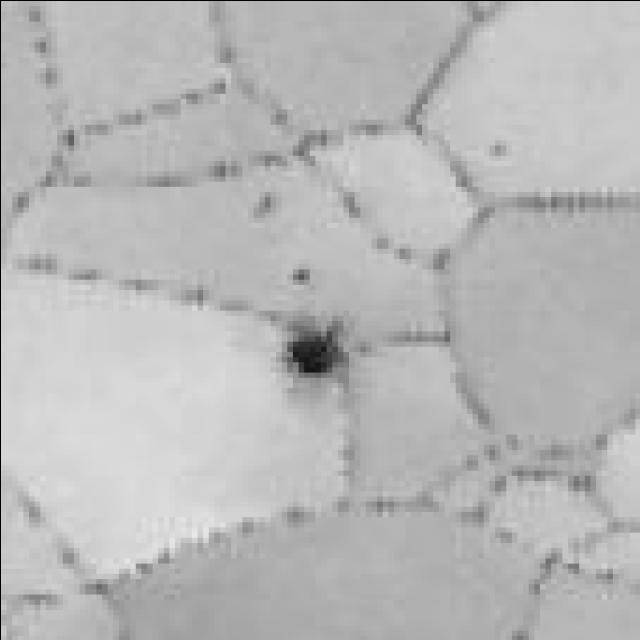good_void: (276, 328, 345, 382), (251, 190, 273, 223), (289, 264, 316, 290), (487, 143, 506, 160)
